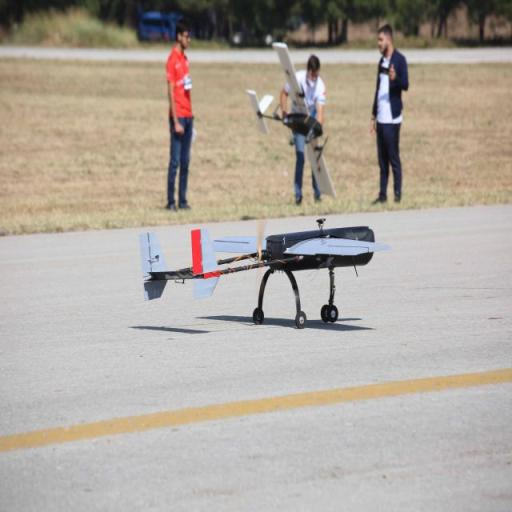uav: (139, 213, 383, 320)
